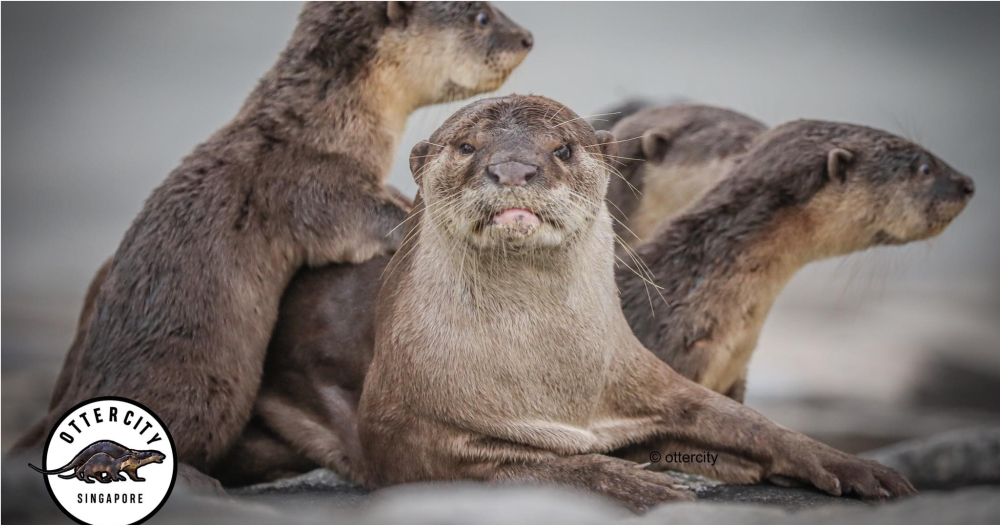otter: (339, 81, 672, 477), (611, 105, 988, 429)
